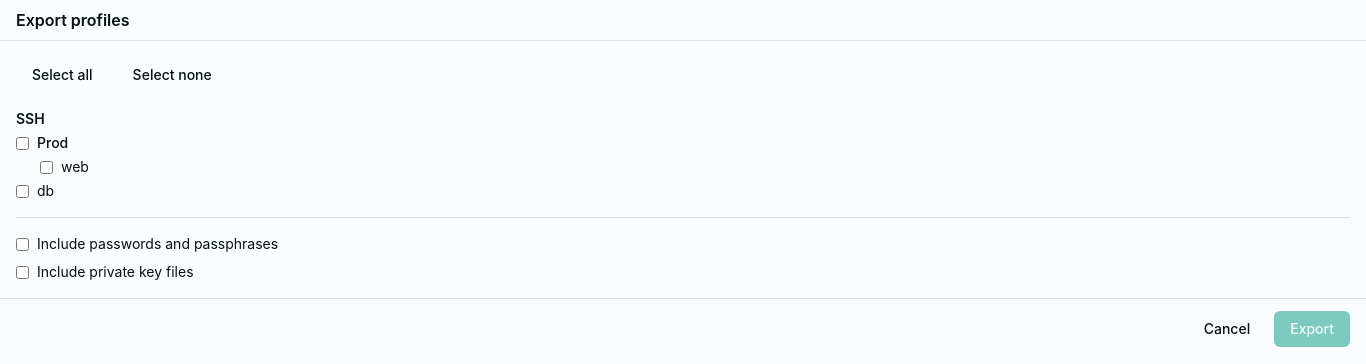
Test: unticking the only member of a ticked group clears the group
Click the checkbox labelled "Prod" at (22, 143), box [16,136,29,150]
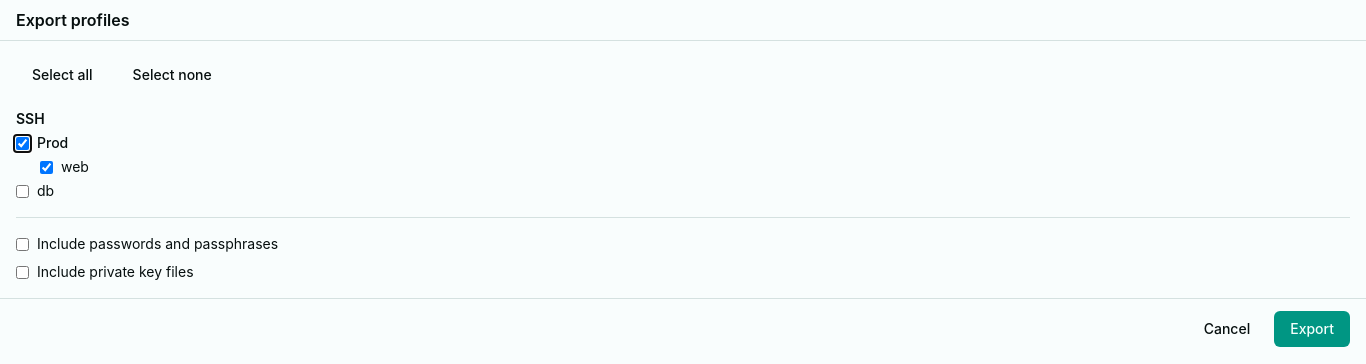
Click the checkbox labelled "web" at (46, 167), box [40,160,53,174]
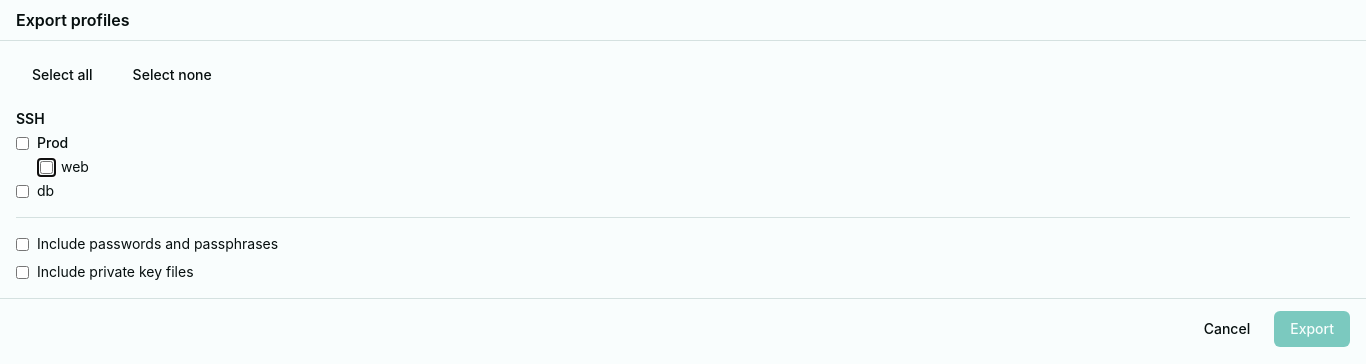
Result: the checkbox labelled "Prod" is not checked at [16,136,29,150]
Result: the button "Export" is disabled at [1274,311,1350,347]
